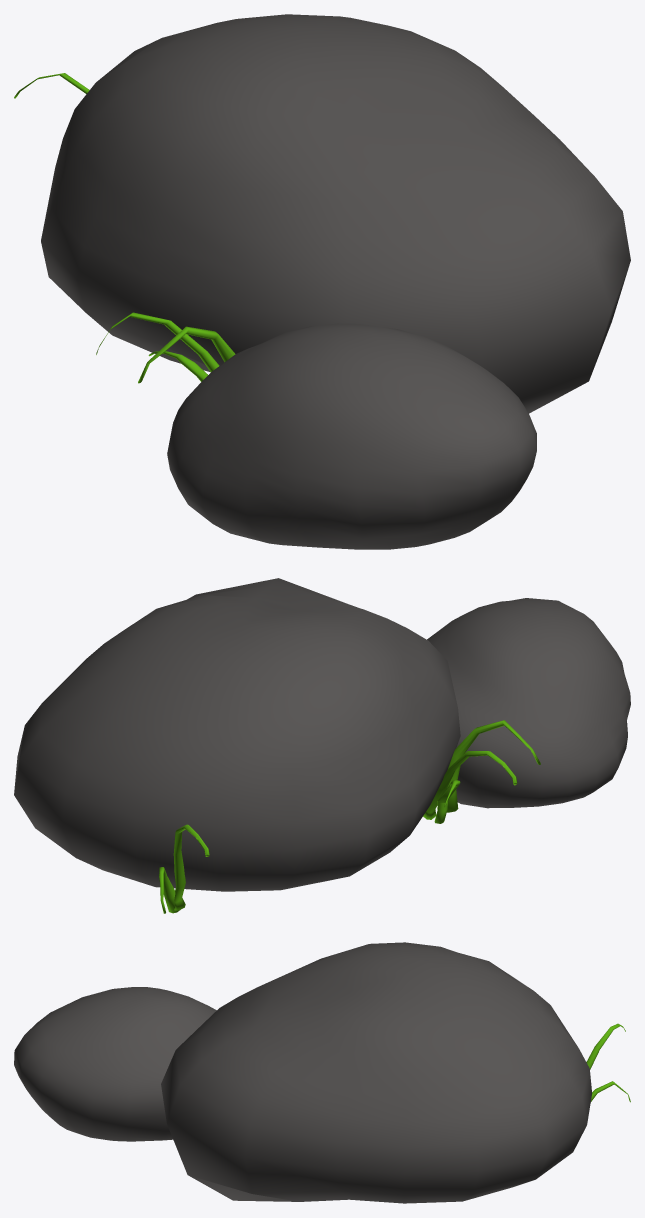
File: stone_black.gltf
The picture shows the model from 3 angles, top to bottom: view 1: azimuth 30°, elevation 25°; view 2: azimuth 150°, elevation 25°; view 3: azimuth 270°, elevation 25°; orthographic projection. The views are drawn at different scales.
Visible parts, largest first — view 1: 球体, 球体.001, 立方体.001, 立方体.004; view 2: 球体, 球体.001, 立方体.001, 立方体.003, 立方体.004, 立方体.002; view 3: 球体, 球体.001.
Boxes of the visible parts, x1,y1,x2,y2 form: 球体: (41, 14, 630, 413); 球体.001: (167, 323, 536, 549); 立方体.001: (138, 326, 235, 383); 立方体.004: (96, 312, 219, 371); 球体: (14, 578, 460, 891); 球体.001: (427, 598, 630, 808); 立方体.001: (437, 720, 540, 812); 立方体.003: (173, 824, 209, 910); 立方体.004: (423, 751, 517, 819); 立方体.002: (159, 867, 179, 913); 球体: (161, 942, 592, 1203); 球体.001: (14, 987, 216, 1141).
Size of the model in its own units: 2.59 by 1.43 by 3.92.
